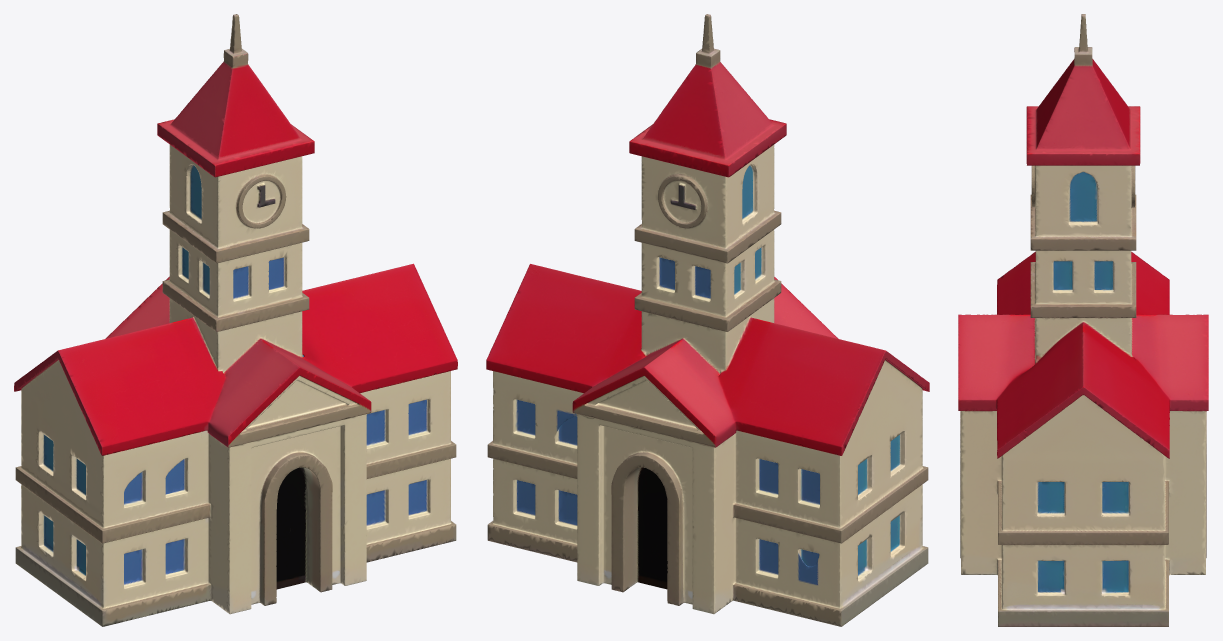
The model's file is Town Hall.glb.
3 renders of one model, left to right at view 1: azimuth 30°, elevation 25°; view 2: azimuth 150°, elevation 25°; view 3: azimuth 270°, elevation 25°, orthographic.
Size of the model in its own units: 1.32 by 1.9 by 0.818.
Materials: 1 (1 with a texture image).
